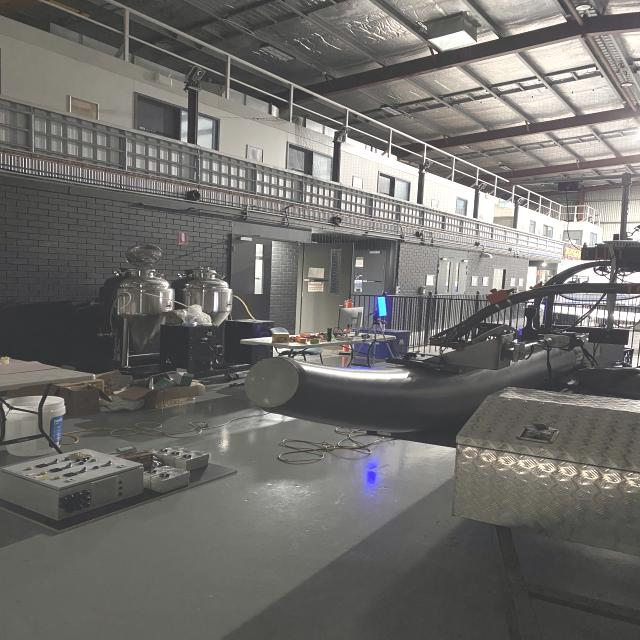matrix: (376, 296, 389, 316)
